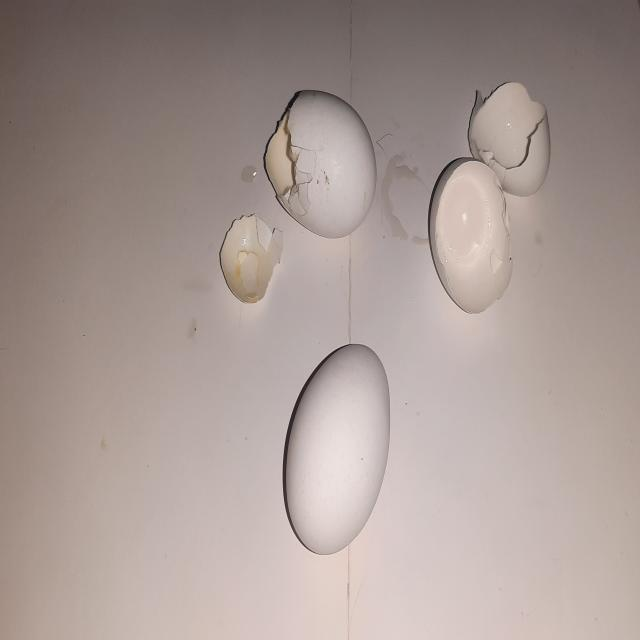egg shell: (280, 336, 396, 559), (259, 83, 381, 238), (425, 150, 516, 322), (466, 72, 554, 205), (219, 208, 282, 308)
